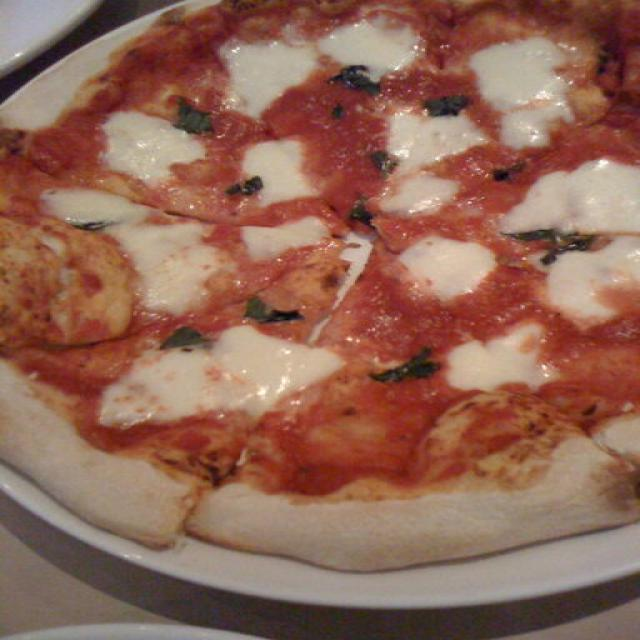Basil: (373, 348, 434, 390), (517, 231, 590, 258), (154, 320, 209, 350), (249, 295, 300, 327), (180, 98, 215, 134), (339, 68, 382, 97), (430, 92, 477, 117), (376, 146, 401, 176), (237, 176, 267, 198), (343, 210, 381, 226)
Cheese: (100, 345, 350, 426), (222, 28, 324, 130), (107, 224, 220, 311), (479, 41, 571, 145), (511, 163, 640, 233), (555, 251, 640, 349), (35, 180, 158, 230), (111, 117, 201, 181), (408, 238, 490, 303), (252, 137, 331, 200), (386, 116, 484, 164), (327, 26, 419, 74), (248, 225, 344, 259), (385, 181, 452, 220)
Pizza: (0, 0, 640, 568)
